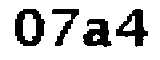0: (11, 5, 48, 49)
4: (115, 7, 153, 50)
7: (48, 4, 80, 50)
a: (80, 16, 115, 53)
